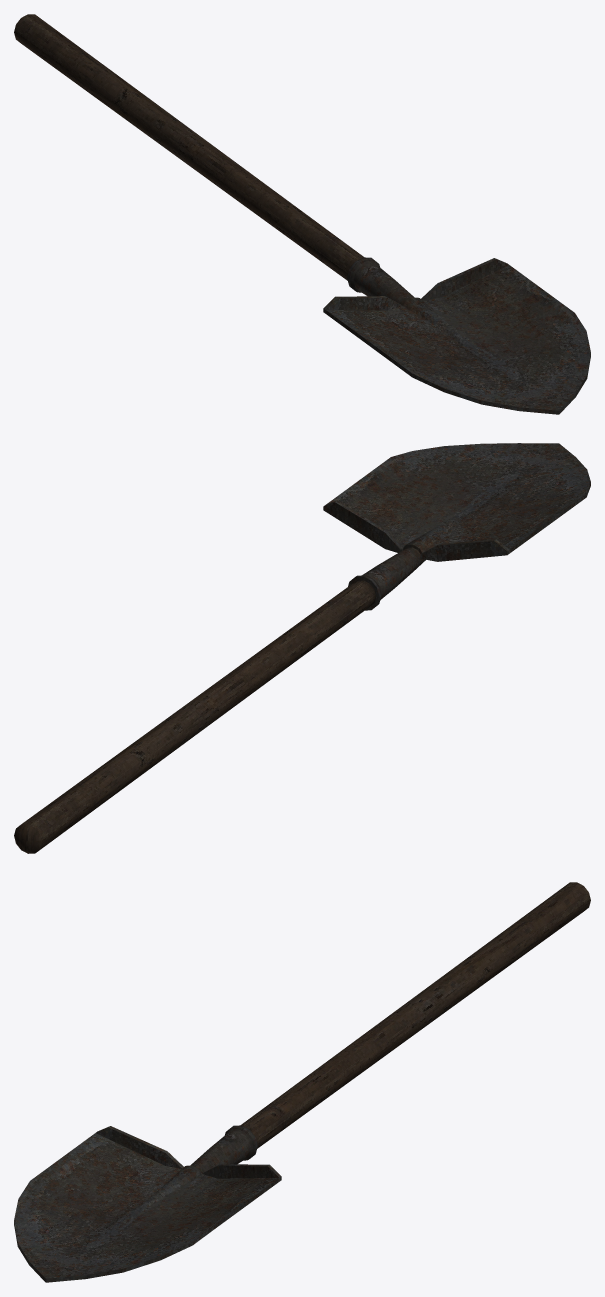
File: shovel_mx_1.glb
3 renders of one model, top to bottom at view 1: azimuth 30°, elevation 25°; view 2: azimuth 150°, elevation 25°; view 3: azimuth 330°, elevation 25°, orthographic.
Visible parts, largest first — view 1: shovel_mx_1; view 2: shovel_mx_1; view 3: shovel_mx_1.
Part boxes in pixels (x1,y1,x2,y2): shovel_mx_1: (14,14,590,414); shovel_mx_1: (14,443,590,853); shovel_mx_1: (14,882,590,1282).
Bounding box in the file's own units: 0.39 × 0.1044 × 1.96.
Materials: 1 (1 with a texture image).
